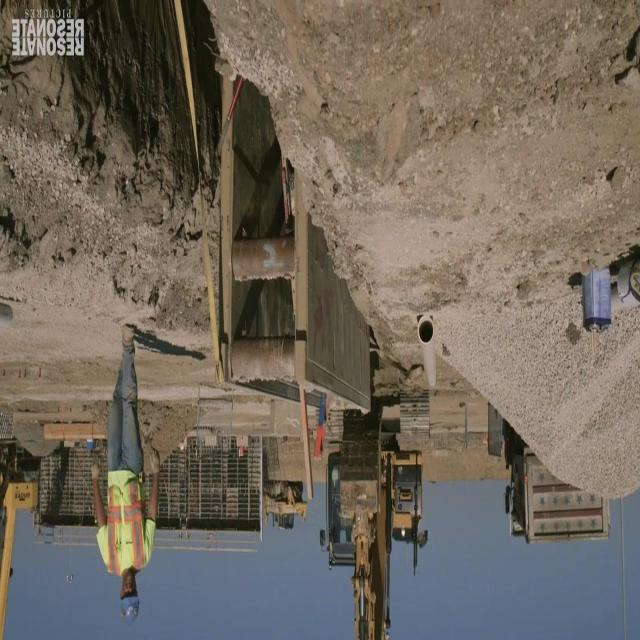helmet: (111, 586, 144, 628)
jacket: (97, 470, 151, 576)
